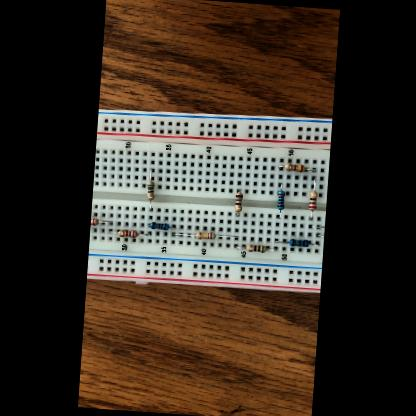resistor: (284, 162, 304, 172), (245, 244, 266, 252), (146, 180, 154, 200), (117, 228, 137, 236), (288, 238, 308, 246), (276, 190, 284, 209), (308, 191, 316, 210), (234, 192, 242, 210), (196, 231, 214, 239), (149, 221, 168, 228), (90, 217, 98, 225)
wire: (172, 233, 194, 236), (137, 230, 149, 235), (274, 238, 288, 242), (98, 219, 112, 223), (311, 177, 315, 190), (148, 168, 152, 180), (304, 167, 316, 171), (308, 225, 324, 228), (216, 236, 236, 238), (148, 200, 152, 210), (308, 210, 312, 220), (235, 244, 244, 248), (108, 228, 116, 232), (276, 210, 280, 218), (309, 242, 319, 245), (266, 247, 275, 250), (316, 233, 323, 236), (277, 165, 283, 168), (168, 225, 174, 228), (278, 182, 280, 190), (238, 188, 240, 192), (146, 222, 148, 226), (236, 212, 238, 216)
